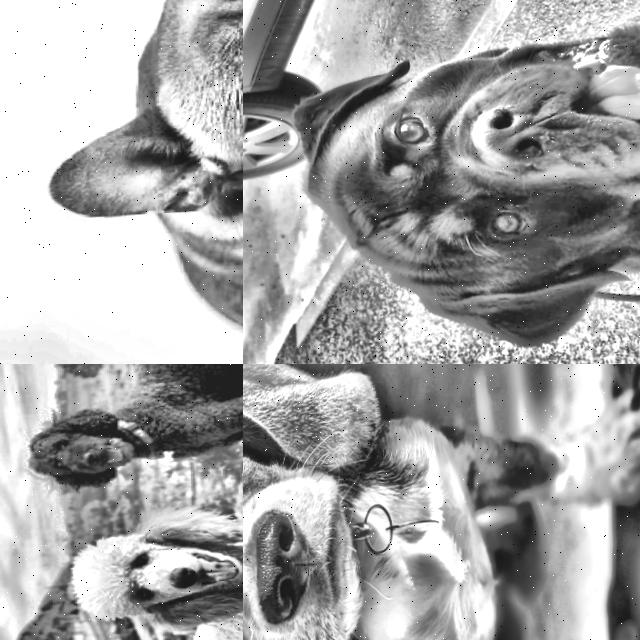beagle: (243, 364, 458, 640)
bulldog: (14, 0, 243, 265)
poodle: (42, 497, 243, 640), (0, 374, 177, 512)
rottweiler: (251, 0, 640, 364)
